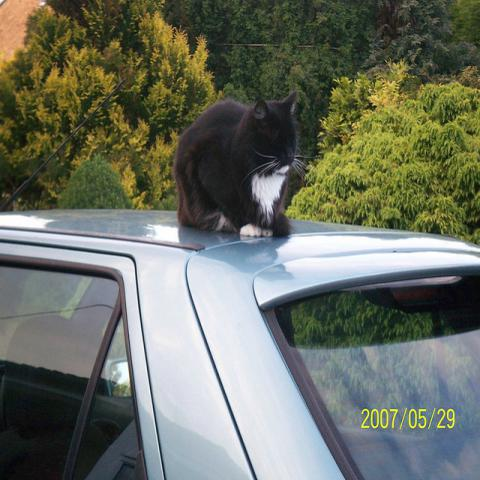car: (0, 210, 479, 475)
